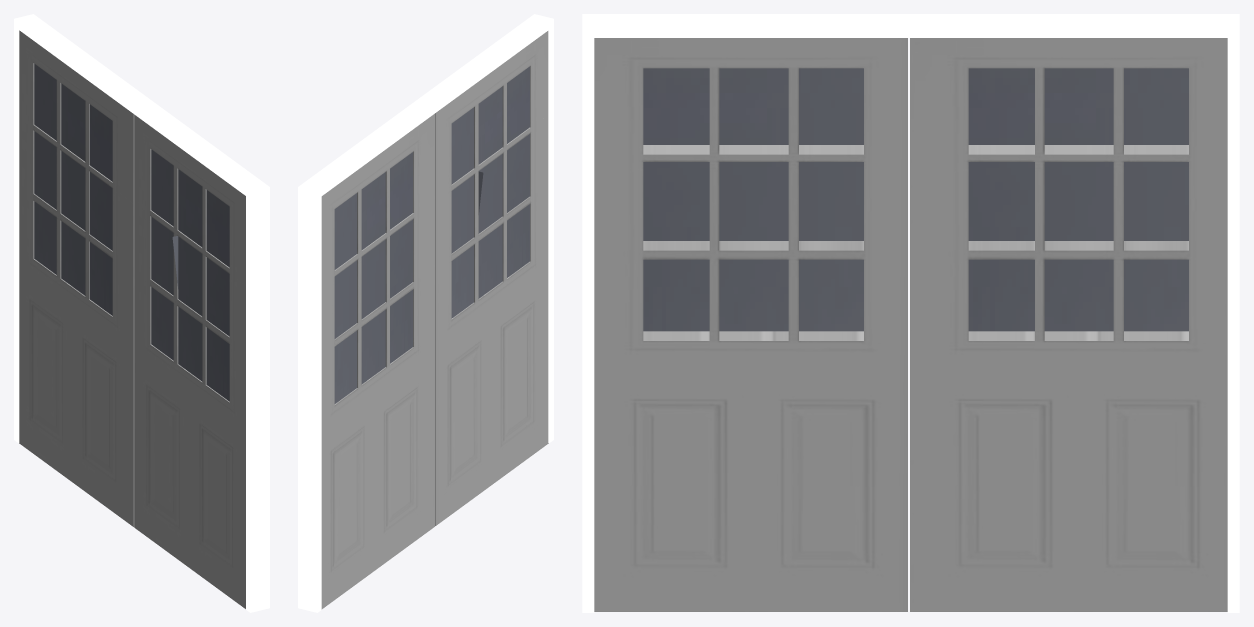
The model's file is 9_lite_double_door_walkin_old.d6c6e67e.gltf.
3 views of the same model, side by side, from view 1: azimuth 30°, elevation 25°; view 2: azimuth 150°, elevation 25°; view 3: azimuth 270°, elevation 25° (orthographic). The views are drawn at different scales.
Visible parts, largest first — view 1: door, glass, trim; view 2: door, glass, trim; view 3: door, glass, trim.
Part boxes in pixels (x1,y1,x2,y2): door: (19,30,245,608); glass: (34,64,229,401); trim: (14,14,269,612); door: (321,31,548,609); glass: (334,66,529,403); trim: (298,14,553,612); door: (594,38,1227,611); glass: (643,68,1188,331); trim: (582,14,1239,612).
Size of the model in its own units: 0.346 by 6.01 by 6.1.
3 materials, 2 textured.
